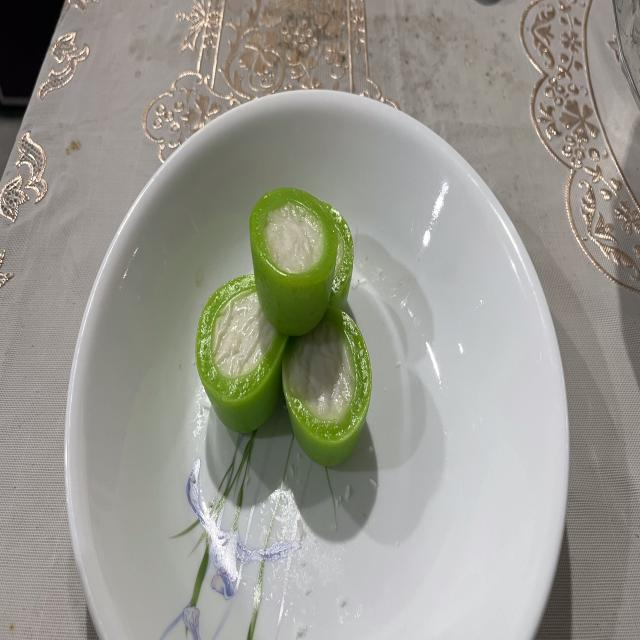nona-manis: (196, 276, 288, 433), (282, 309, 371, 467), (250, 189, 338, 336), (324, 204, 354, 309)
